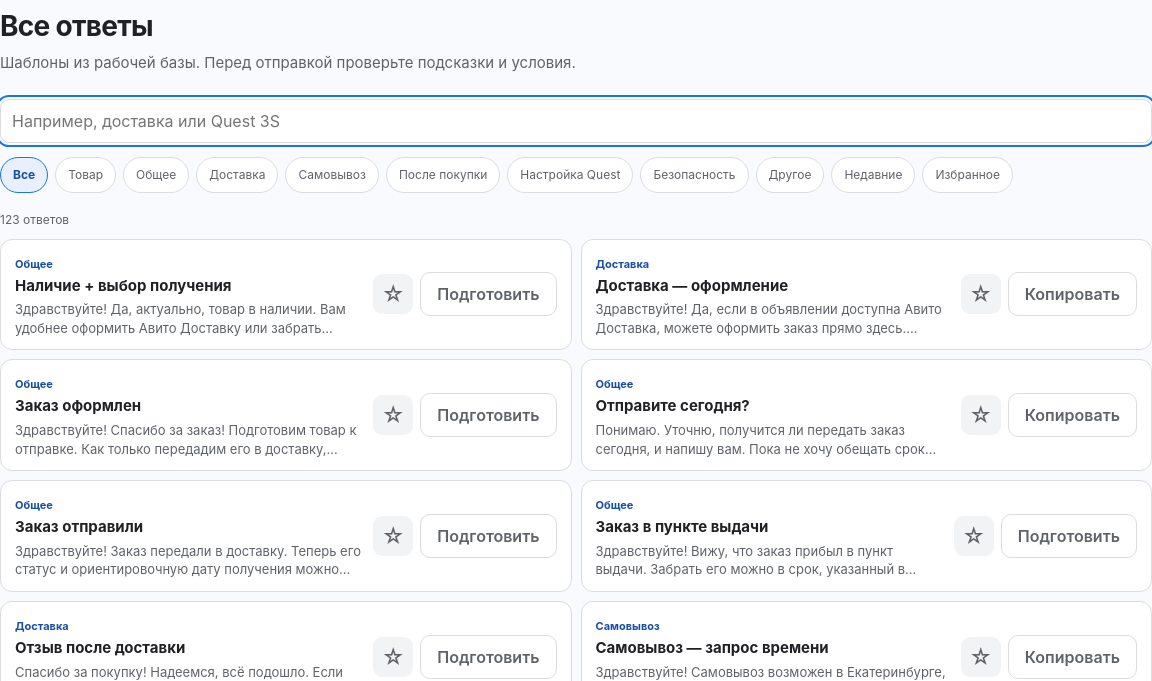
Test case: template library actions › copies a safe answer from the compact list and tracks its ID
Type "Товар в наличии?" into the search field named "Поиск ответа" at (576, 120), box [0,98,1151,142]
(page scrolled)
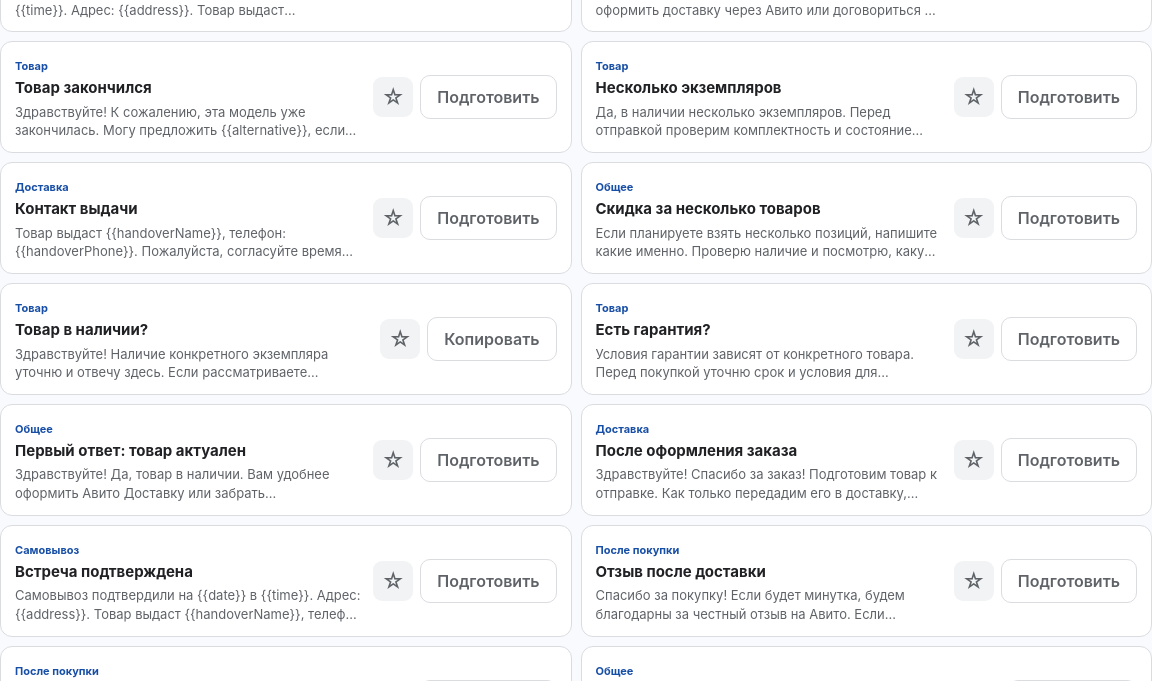
Click the button "Копировать" in the row of "Товар в наличии?" at (492, 339), box [427,317,556,361]
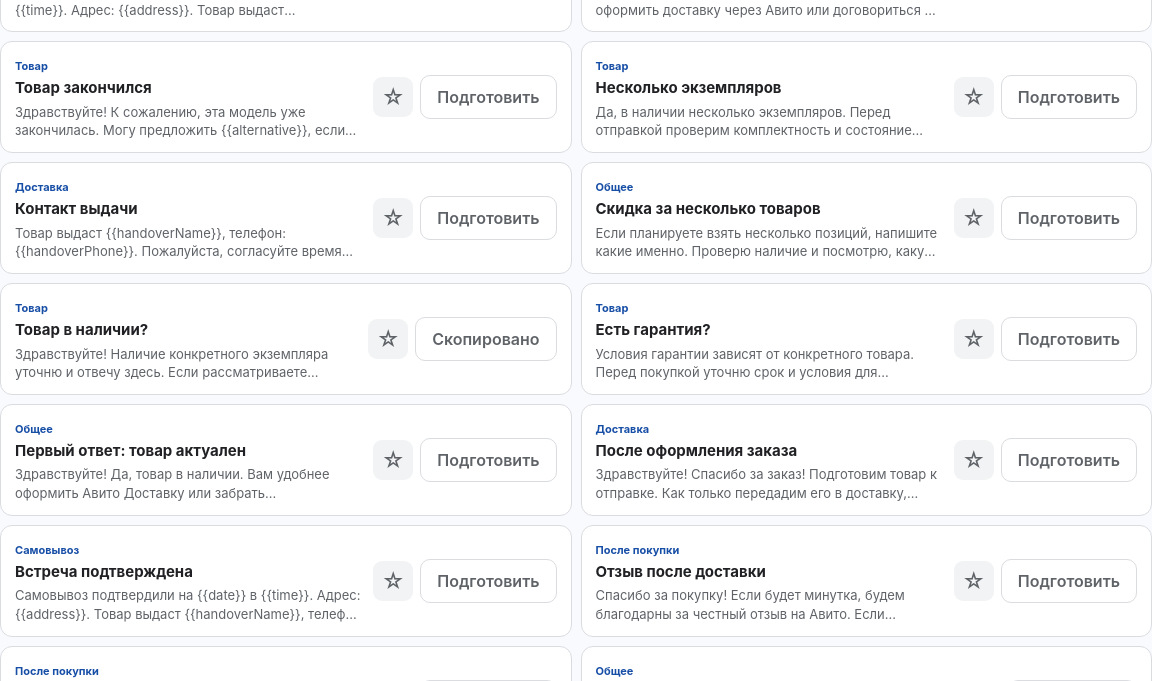
Expected: the button "Скопировано" is shown, [415,317,556,361]
